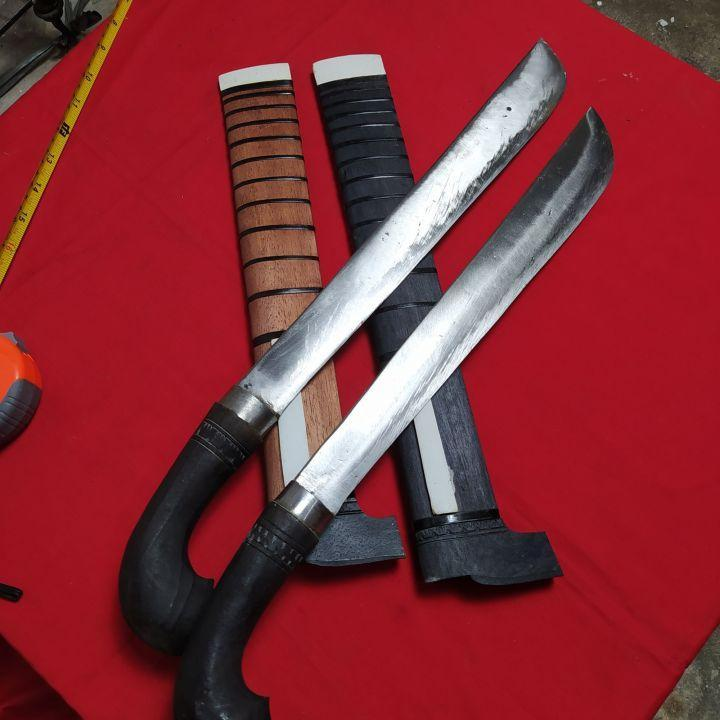facao: (107, 10, 581, 662), (159, 91, 640, 720)
